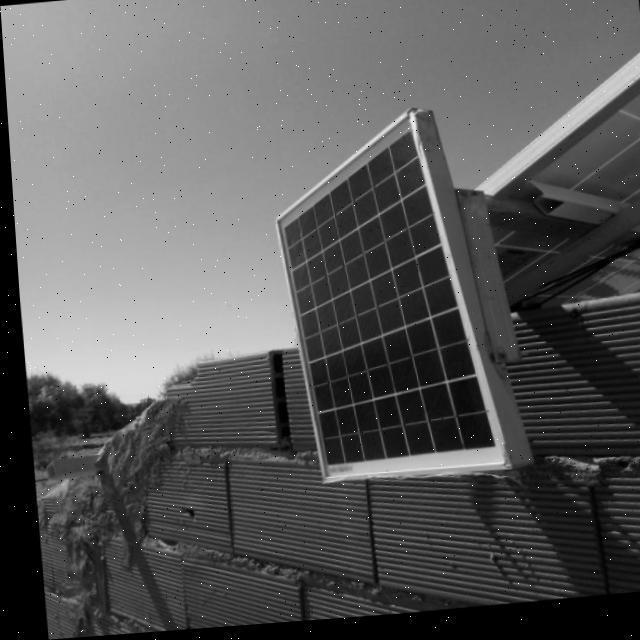Normal Solar Panel: (266, 110, 500, 490)
